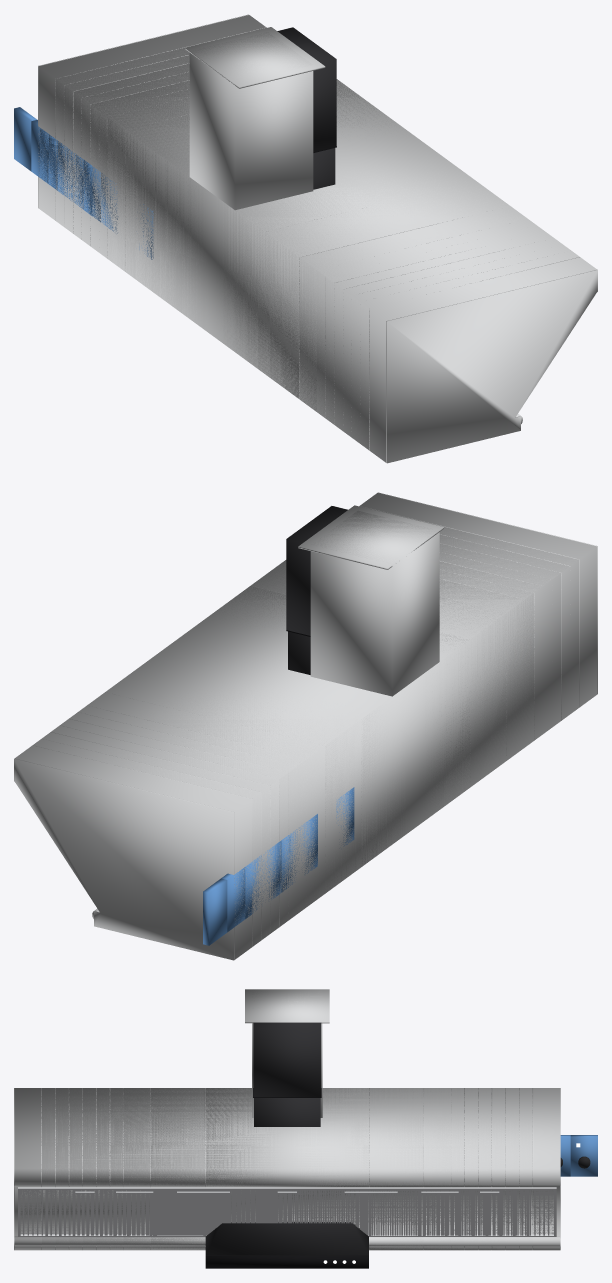
File: Dunstabzug_Wandhauben.glb
The picture shows the model from 3 angles, top to bottom: view 1: azimuth 30°, elevation 25°; view 2: azimuth 150°, elevation 25°; view 3: azimuth 270°, elevation 25°; orthographic projection. The views are drawn at different scales.
Parts seen in each view (by area): view 1: Dunstabzug_Wandhaube700_1800x700x450_Korpus, Dunstabzug_Wandhaube700_2000x700x450_Korpus, Dunstabzug_Wandhaube700_2000x700x450_Seitenwange_L, Dunstabzug_Wandhaube700_1000x700x450_Korpus, Dunstabzug_Wandhaube700_600x700x450_Kaminschacht, Dunstabzug_Wandhaube700_1200x700x450_Korpus, Dunstabzug_Wandhaube700_1400x700x450_Korpus, Dunstabzug_Wandhaube700_1700x700x450_Korpus, Dunstabzug_Wandhaube700_1600x700x450_Korpus, Dunstabzug_Wandhaube700_600x700x450_Deckenblende, Dunstabzug_Wandhaube700_1500x700x450_Korpus, Dunstabzug_Kaminhaube_600x500_Kamin_oben (+7 smaller); view 2: Dunstabzug_Wandhaube700_1600x700x450_Korpus, Dunstabzug_Wandhaube700_1500x700x450_Korpus, Dunstabzug_Wandhaube700_2000x700x450_Seitenwange_R, Dunstabzug_Wandhaube700_2000x700x450_Korpus, Dunstabzug_Wandhaube700_1800x700x450_Korpus, Dunstabzug_Wandhaube700_1300x700x450_Korpus, Dunstabzug_Wandhaube700_1700x700x450_Korpus, Dunstabzug_Wandhaube700_600x700x450_Kaminschacht, Dunstabzug_Wandhaube700_1400x700x450_Korpus, Dunstabzug_Wandhaube700_1200x700x450_Korpus, Dunstabzug_Wandhaube700_600x700x450_Korpus, Dunstabzug_Wandhaube700_1000x700x450_Korpus (+10 smaller); view 3: Dunstabzug_Wandhaube700_1000x700x450_Korpus, Dunstabzug_Wandhaube700_1200x700x450_Korpus, Dunstabzug_Wandhaube700_600x700x450_Korpus, Dunstabzug_Wandhaube700_2000x700x450_Korpus, Dunstabzug_Wandhaube700_1300x700x450_Korpus, Dunstabzug_Wandhaube700_1400x700x450_Korpus, Dunstabzug_Wandhaube700_1500x700x450_Korpus, Dunstabzug_Wandhaube700_1600x700x450_Korpus, Dunstabzug_Wandhaube700_1800x700x450_Korpus, Dunstabzug_Wandhaube700_1700x700x450_Korpus, Dunstabzug_Wandhaube700_2000x700x450, Dunstabzug_Wandhaube700_1600x700x450 (+25 smaller).
Boxes of the visible parts, x1=… form: Dunstabzug_Wandhaube700_1800x700x450_Korpus: x1=55, y1=27, x2=579, y2=449; Dunstabzug_Wandhaube700_2000x700x450_Korpus: x1=38, y1=15, x2=596, y2=462; Dunstabzug_Wandhaube700_2000x700x450_Seitenwange_L: x1=386, y1=269, x2=597, y2=463; Dunstabzug_Wandhaube700_1000x700x450_Korpus: x1=125, y1=79, x2=480, y2=398; Dunstabzug_Wandhaube700_600x700x450_Kaminschacht: x1=189, y1=32, x2=313, y2=210; Dunstabzug_Wandhaube700_1200x700x450_Korpus: x1=108, y1=90, x2=526, y2=411; Dunstabzug_Wandhaube700_1400x700x450_Korpus: x1=90, y1=80, x2=491, y2=420; Dunstabzug_Wandhaube700_1700x700x450_Korpus: x1=64, y1=55, x2=569, y2=393; Dunstabzug_Wandhaube700_1600x700x450_Korpus: x1=73, y1=63, x2=551, y2=393; Dunstabzug_Wandhaube700_600x700x450_Deckenblende: x1=185, y1=27, x2=325, y2=88; Dunstabzug_Wandhaube700_1500x700x450_Korpus: x1=82, y1=72, x2=536, y2=316; Dunstabzug_Kaminhaube_600x500_Kamin_oben: x1=277, y1=27, x2=336, y2=151; Dunstabzug_Wandhaube700_1600x700x450_Korpus: x1=51, y1=544, x2=560, y2=842; Dunstabzug_Wandhaube700_1500x700x450_Korpus: x1=60, y1=553, x2=549, y2=926; Dunstabzug_Wandhaube700_2000x700x450_Seitenwange_R: x1=14, y1=758, x2=234, y2=960; Dunstabzug_Wandhaube700_2000x700x450_Korpus: x1=15, y1=493, x2=597, y2=959; Dunstabzug_Wandhaube700_1800x700x450_Korpus: x1=34, y1=506, x2=579, y2=946; Dunstabzug_Wandhaube700_1300x700x450_Korpus: x1=80, y1=570, x2=533, y2=906; Dunstabzug_Wandhaube700_1700x700x450_Korpus: x1=42, y1=534, x2=569, y2=937; Dunstabzug_Wandhaube700_600x700x450_Kaminschacht: x1=310, y1=510, x2=439, y2=696; Dunstabzug_Wandhaube700_1400x700x450_Korpus: x1=70, y1=560, x2=541, y2=918; Dunstabzug_Wandhaube700_1200x700x450_Korpus: x1=88, y1=560, x2=523, y2=757; Dunstabzug_Wandhaube700_600x700x450_Korpus: x1=198, y1=586, x2=470, y2=866; Dunstabzug_Wandhaube700_1000x700x450_Korpus: x1=111, y1=560, x2=506, y2=890; Dunstabzug_Wandhaube700_1000x700x450_Korpus: x1=151, y1=1088, x2=423, y2=1250; Dunstabzug_Wandhaube700_1200x700x450_Korpus: x1=123, y1=1088, x2=450, y2=1250; Dunstabzug_Wandhaube700_600x700x450_Korpus: x1=205, y1=1088, x2=368, y2=1227; Dunstabzug_Wandhaube700_2000x700x450_Korpus: x1=14, y1=1088, x2=559, y2=1250; Dunstabzug_Wandhaube700_1300x700x450_Korpus: x1=110, y1=1088, x2=464, y2=1250; Dunstabzug_Wandhaube700_1400x700x450_Korpus: x1=96, y1=1088, x2=477, y2=1250; Dunstabzug_Wandhaube700_1500x700x450_Korpus: x1=83, y1=1088, x2=491, y2=1250; Dunstabzug_Wandhaube700_1600x700x450_Korpus: x1=69, y1=1088, x2=505, y2=1250; Dunstabzug_Wandhaube700_1800x700x450_Korpus: x1=42, y1=1088, x2=532, y2=1250; Dunstabzug_Wandhaube700_1700x700x450_Korpus: x1=55, y1=1088, x2=518, y2=1250; Dunstabzug_Wandhaube700_2000x700x450: x1=18, y1=1187, x2=556, y2=1236; Dunstabzug_Wandhaube700_1600x700x450: x1=72, y1=1187, x2=501, y2=1236.
Size of the model in its own units: 7 by 8.52 by 21.43.
